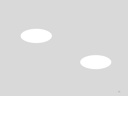round: (19, 25, 55, 46), (78, 52, 114, 71)
